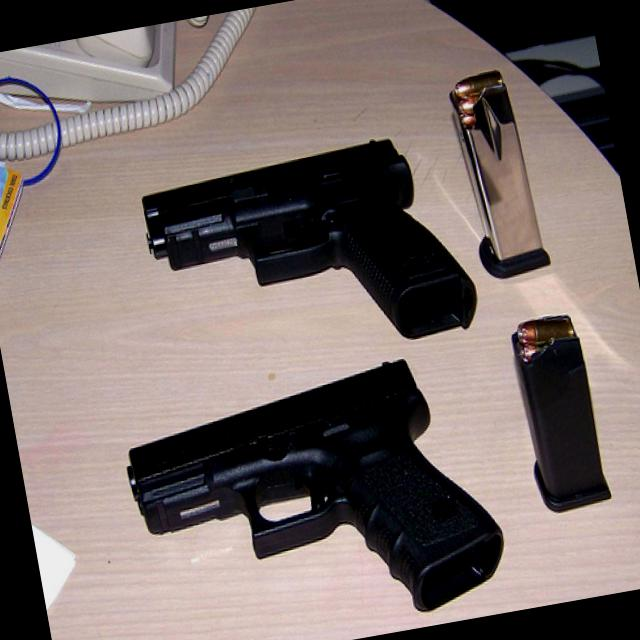handgun: (114, 343, 510, 639), (133, 126, 480, 386)
